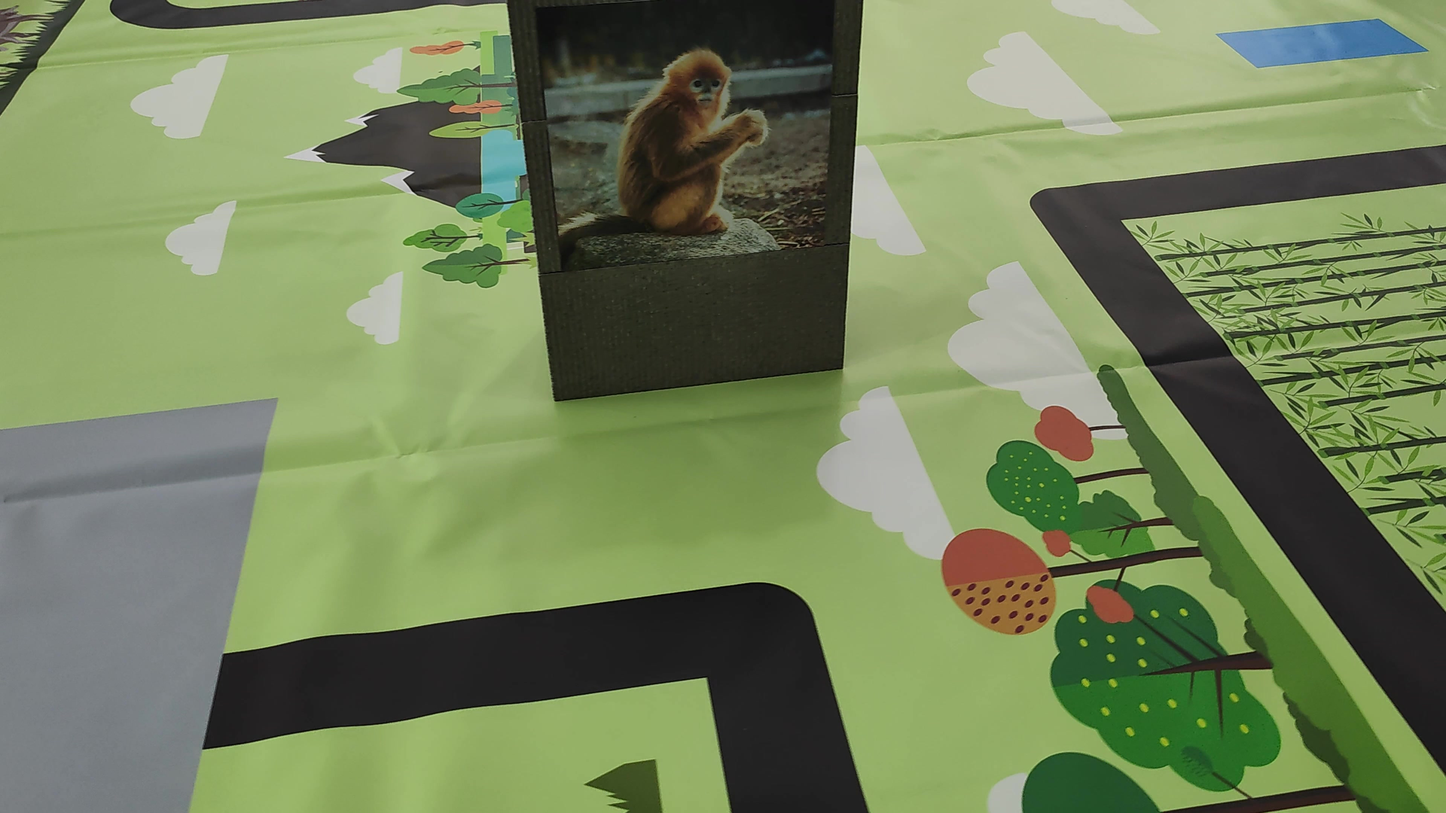monkey: (549, 37, 795, 280)
